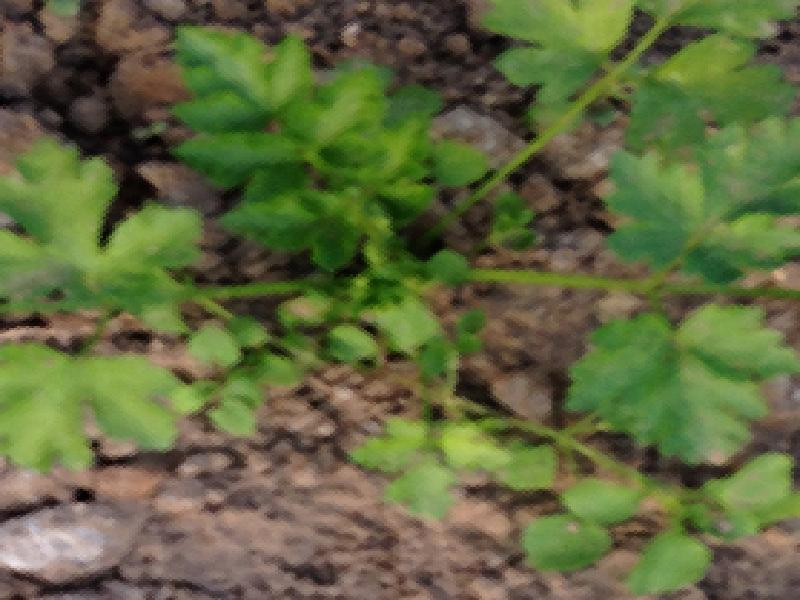radish: (48, 0, 771, 561)
